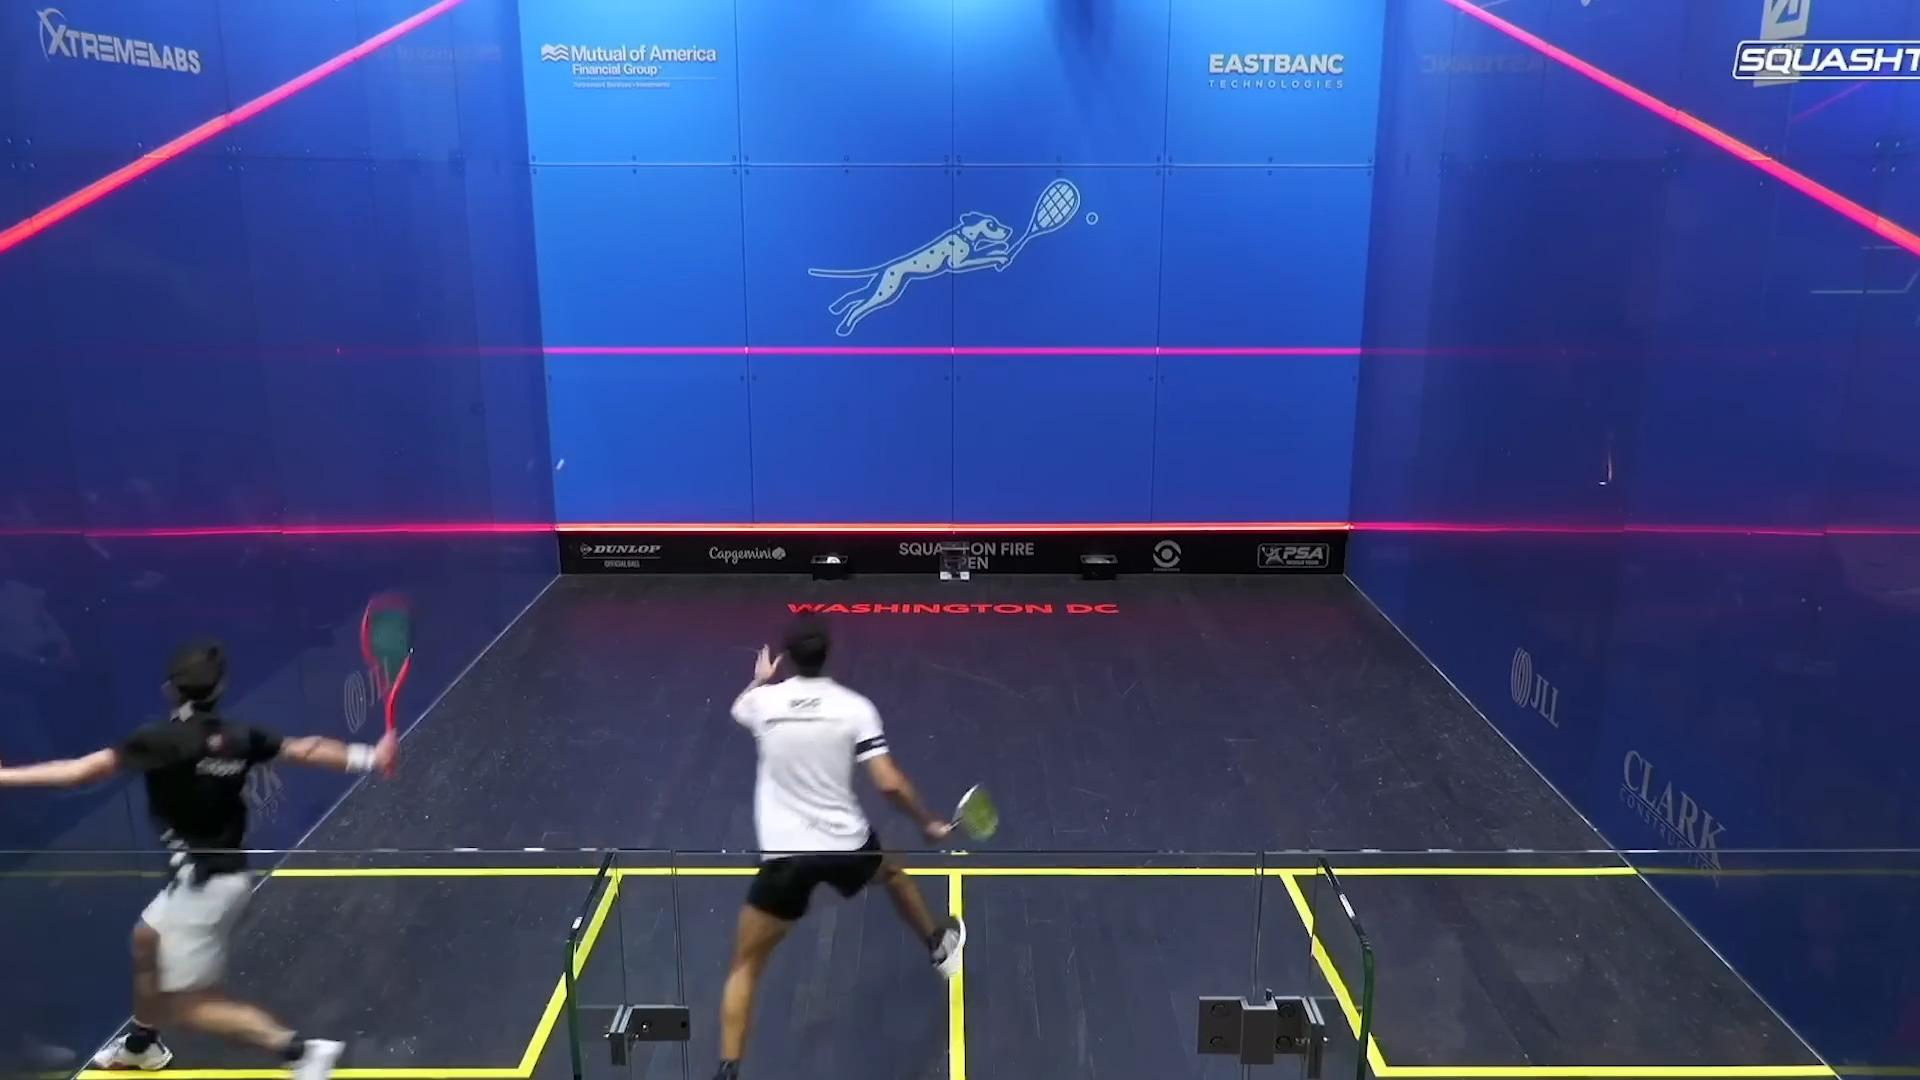Squash-Ball: (546, 450, 580, 483)
